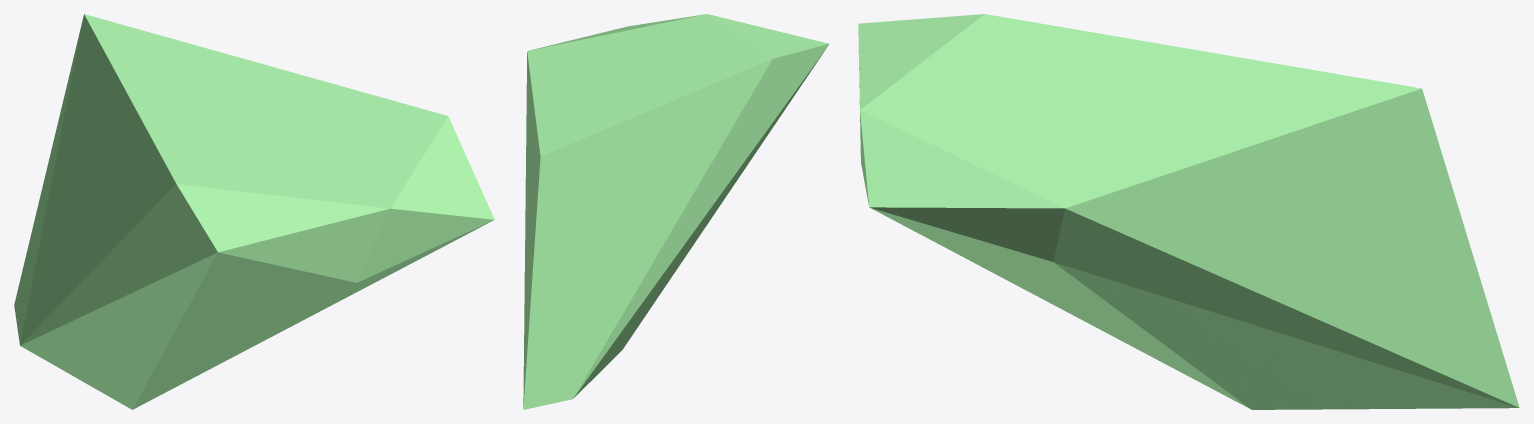
The model's file is UMIRobot_UMIRobot_link_3_convex_coll_5.dae.
The picture shows the model from 3 angles, left to right: view 1: azimuth 30°, elevation 25°; view 2: azimuth 150°, elevation 25°; view 3: azimuth 270°, elevation 25°; orthographic projection. The views are drawn at different scales.
Parts seen in each view (by area): view 1: node; view 2: node; view 3: node.
Part boxes in pixels (x1=…): node: x1=14, y1=14, x2=494, y2=409; node: x1=523, y1=14, x2=829, y2=409; node: x1=858, y1=14, x2=1519, y2=409.
Bounding box in the file's own units: 0.0139 × 0.0137 × 0.0232.
